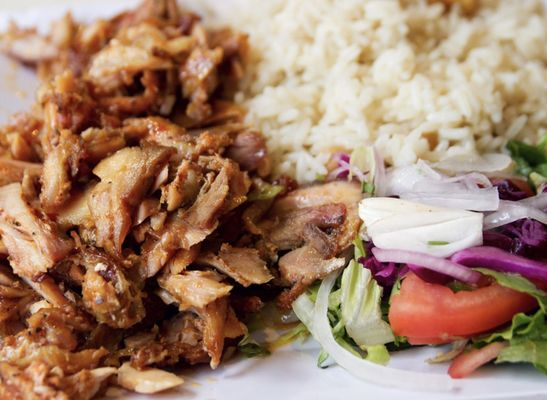pizza: (387, 274, 538, 345)
